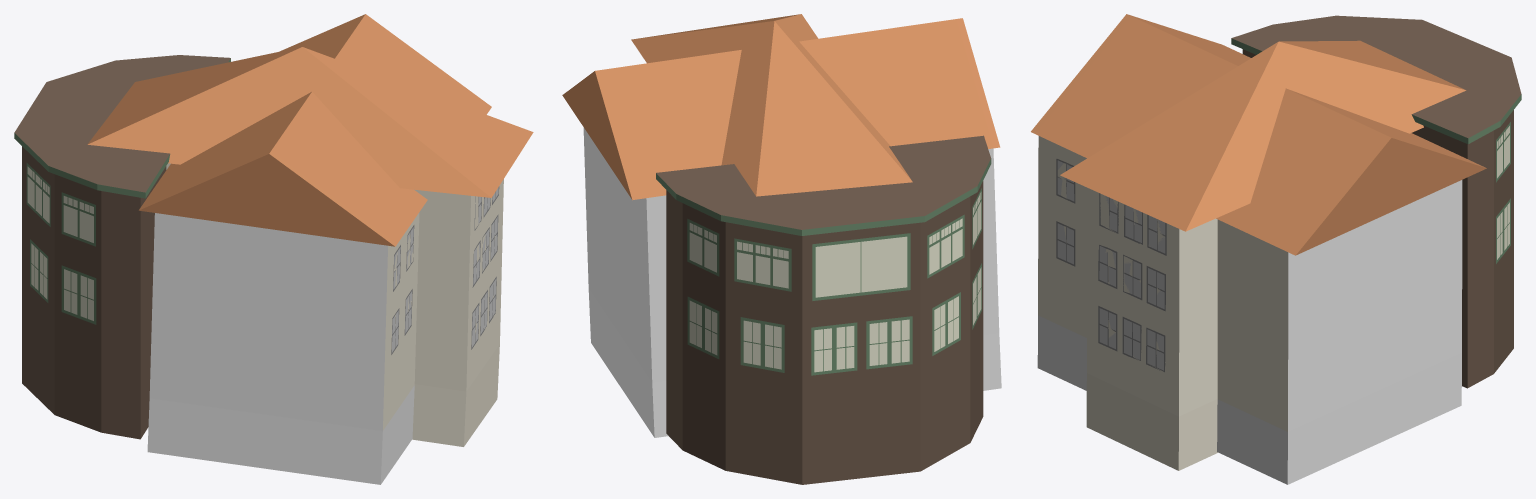
File: DinningRoom.gltf
3 renders of one model, left to right at view 1: azimuth 30°, elevation 25°; view 2: azimuth 150°, elevation 25°; view 3: azimuth 270°, elevation 25°, orthographic. The views are drawn at different scales.
Visible parts, largest first — view 1: Mesh149 Component_1_1 Component_2_1 Model, Mesh55 Dining1 Component_1_1 Component_2_1 Model, Mesh13 Group4 Component_2_1 Model, Mesh147 Component_1_1 Component_2_1 Model, Mesh148 Component_1_1 Component_2_1 Model; view 2: Mesh55 Dining1 Component_1_1 Component_2_1 Model, Mesh147 Component_1_1 Component_2_1 Model, Mesh13 Group4 Component_2_1 Model, Mesh149 Component_1_1 Component_2_1 Model; view 3: Mesh149 Component_1_1 Component_2_1 Model, Mesh147 Component_1_1 Component_2_1 Model, Mesh13 Group4 Component_2_1 Model, Mesh148 Component_1_1 Component_2_1 Model, Mesh55 Dining1 Component_1_1 Component_2_1 Model, Mesh19 Group6 Component_2_1 Model, Mesh9 Group3 Component_2_1 Model, Mesh47 Group13 Component_2_1 Model, Mesh51 Group14 Component_2_1 Model, Mesh27 Group8 Component_2_1 Model, Mesh39 Group11 Component_2_1 Model, Mesh31 Group9 Component_2_1 Model (+2 smaller).
Part boxes in pixels (<box>): Mesh149 Component_1_1 Component_2_1 Model: <box>147,213,419,484</box>; Mesh55 Dining1 Component_1_1 Component_2_1 Model: <box>14,55,230,439</box>; Mesh13 Group4 Component_2_1 Model: <box>87,47,533,197</box>; Mesh147 Component_1_1 Component_2_1 Model: <box>139,14,491,246</box>; Mesh148 Component_1_1 Component_2_1 Model: <box>166,163,503,446</box>; Mesh55 Dining1 Component_1_1 Component_2_1 Model: <box>656,135,991,484</box>; Mesh147 Component_1_1 Component_2_1 Model: <box>562,18,1000,200</box>; Mesh13 Group4 Component_2_1 Model: <box>631,14,912,196</box>; Mesh149 Component_1_1 Component_2_1 Model: <box>583,127,1001,437</box>; Mesh149 Component_1_1 Component_2_1 Model: <box>1037,136,1462,484</box>; Mesh147 Component_1_1 Component_2_1 Model: <box>1031,14,1486,255</box>; Mesh13 Group4 Component_2_1 Model: <box>1060,40,1466,231</box>; Mesh148 Component_1_1 Component_2_1 Model: <box>1086,188,1218,470</box>; Mesh55 Dining1 Component_1_1 Component_2_1 Model: <box>1231,15,1521,388</box>; Mesh19 Group6 Component_2_1 Model: <box>1146,266,1165,311</box>; Mesh9 Group3 Component_2_1 Model: <box>1056,221,1075,266</box>; Mesh47 Group13 Component_2_1 Model: <box>1146,327,1165,372</box>; Mesh51 Group14 Component_2_1 Model: <box>1122,317,1141,360</box>; Mesh27 Group8 Component_2_1 Model: <box>1098,306,1117,351</box>; Mesh39 Group11 Component_2_1 Model: <box>1123,254,1142,300</box>; Mesh31 Group9 Component_2_1 Model: <box>1098,245,1117,288</box>.
Size of the model in its own units: 2012 by 1598 by 1990.
